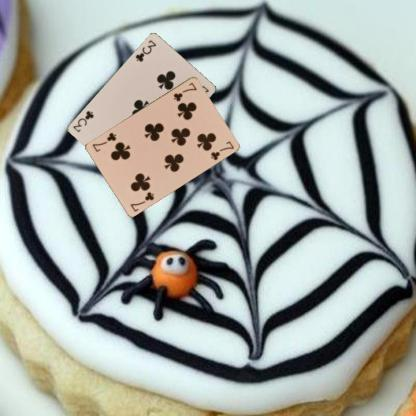3c: (133, 38, 157, 64)
7c: (128, 189, 155, 213), (171, 80, 198, 102)
